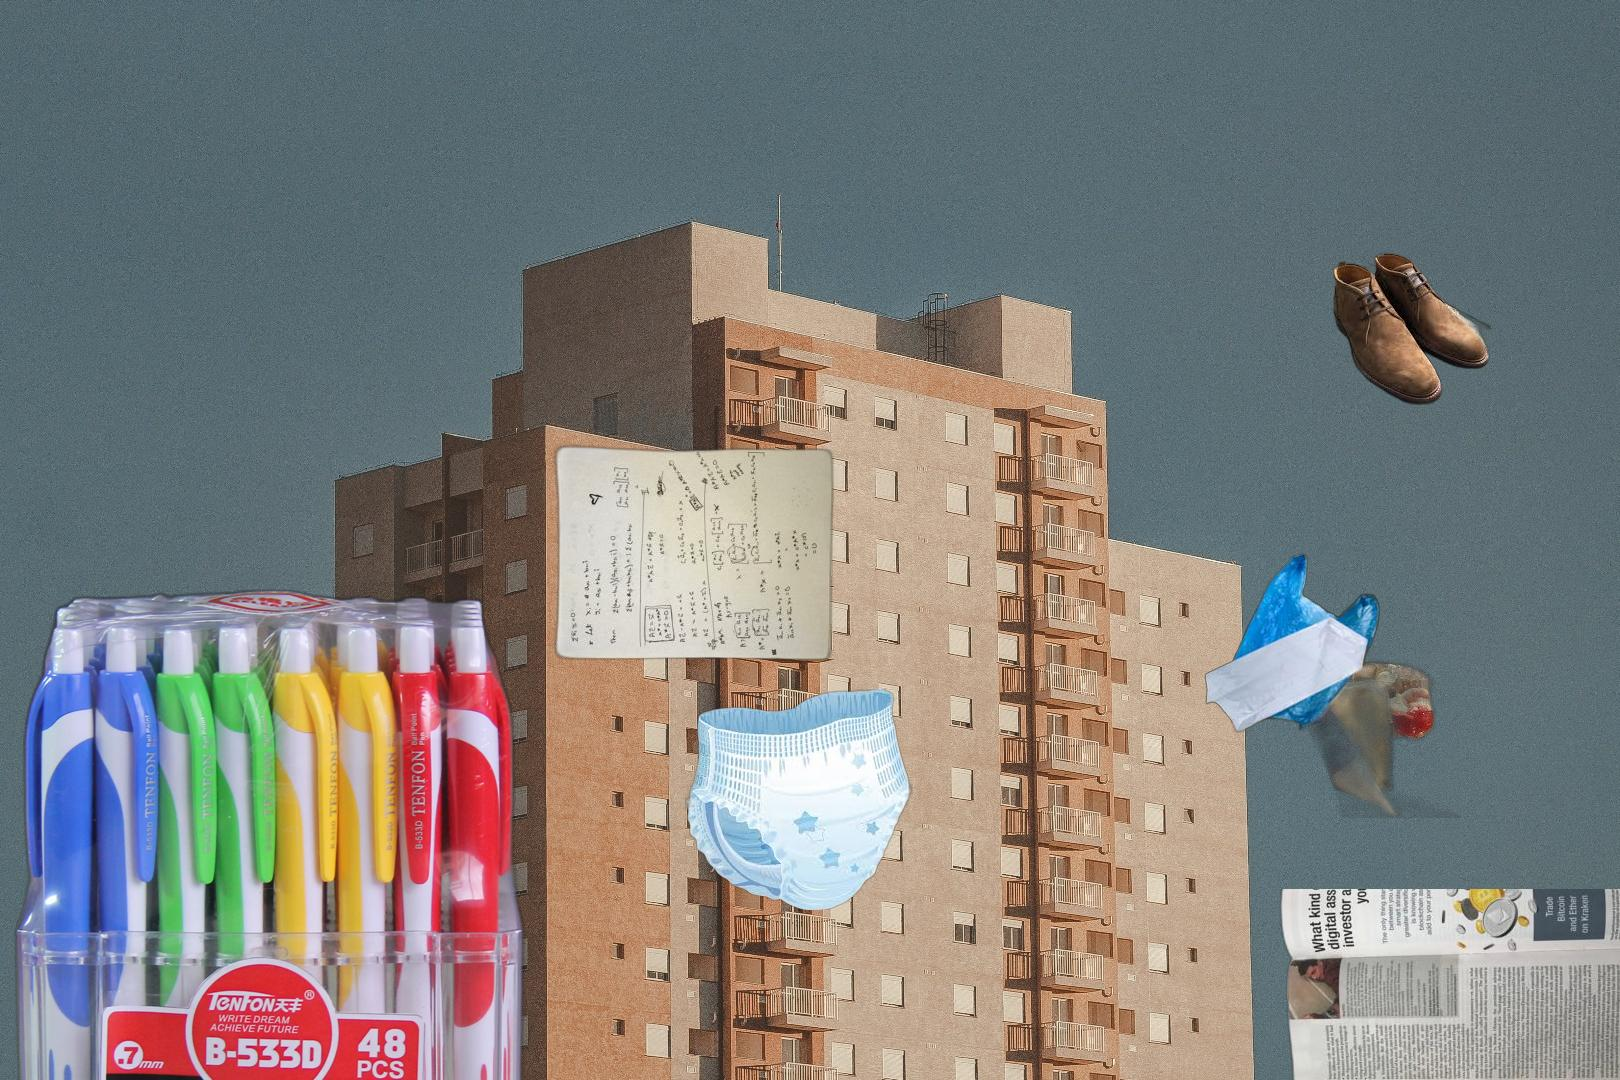paper: (1276, 890, 1620, 1080), (550, 442, 837, 662)
penholder: (8, 583, 530, 1080)
plastic-bag: (1204, 551, 1471, 818)
shoes: (1331, 250, 1493, 405)
trash: (685, 689, 912, 910)
trashbox-cardboard: (1443, 993, 1620, 1060)
